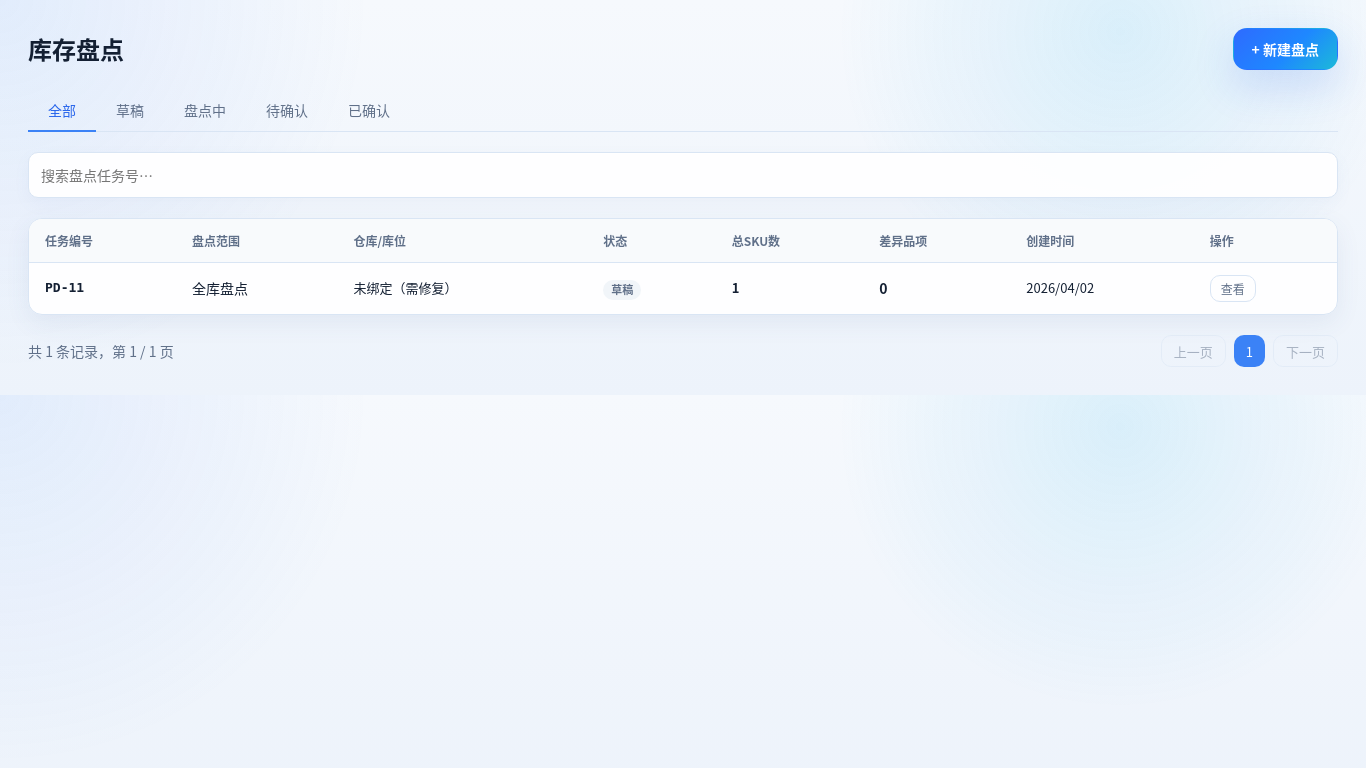
StocktakingPage › 保存实盘数量应触发更新并显示成功提示
The width and height of the screenshot is (1366, 768).
Click the button with aria-label "查看盘点明细".
click(1233, 289)  # box [1210, 275, 1256, 302]
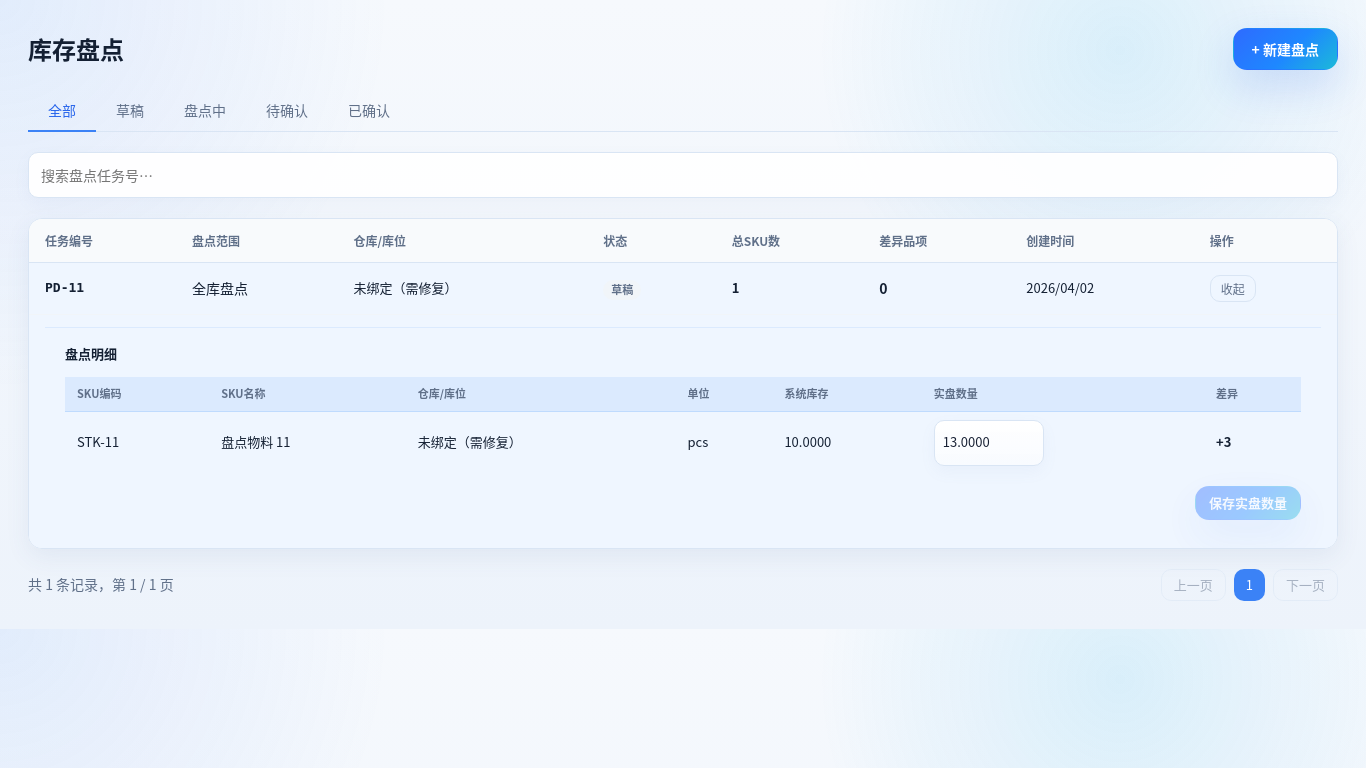
Replace the text in the number field showing "13.0000" with "15" at (989, 443), box [934, 420, 1044, 466]
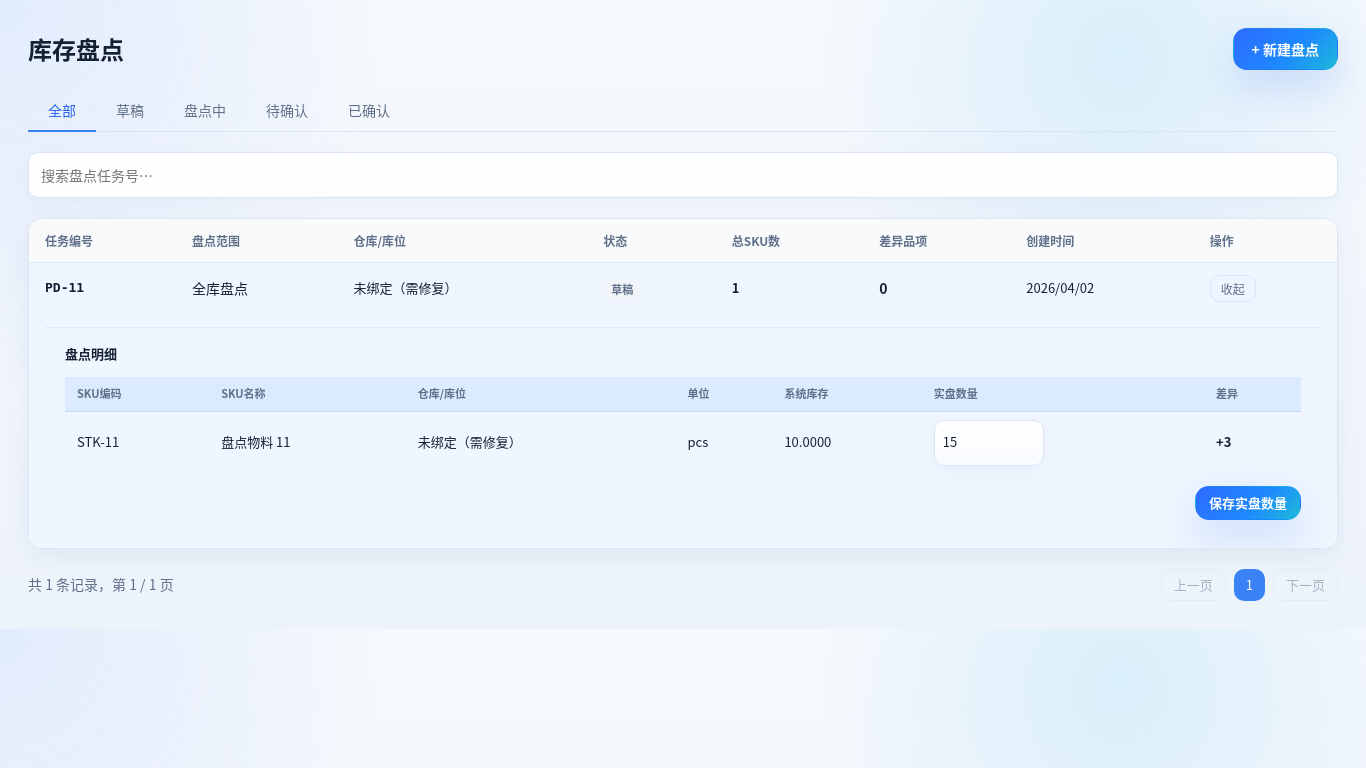
Click the button "保存实盘数量".
click(1248, 503)  # box [1195, 486, 1301, 520]
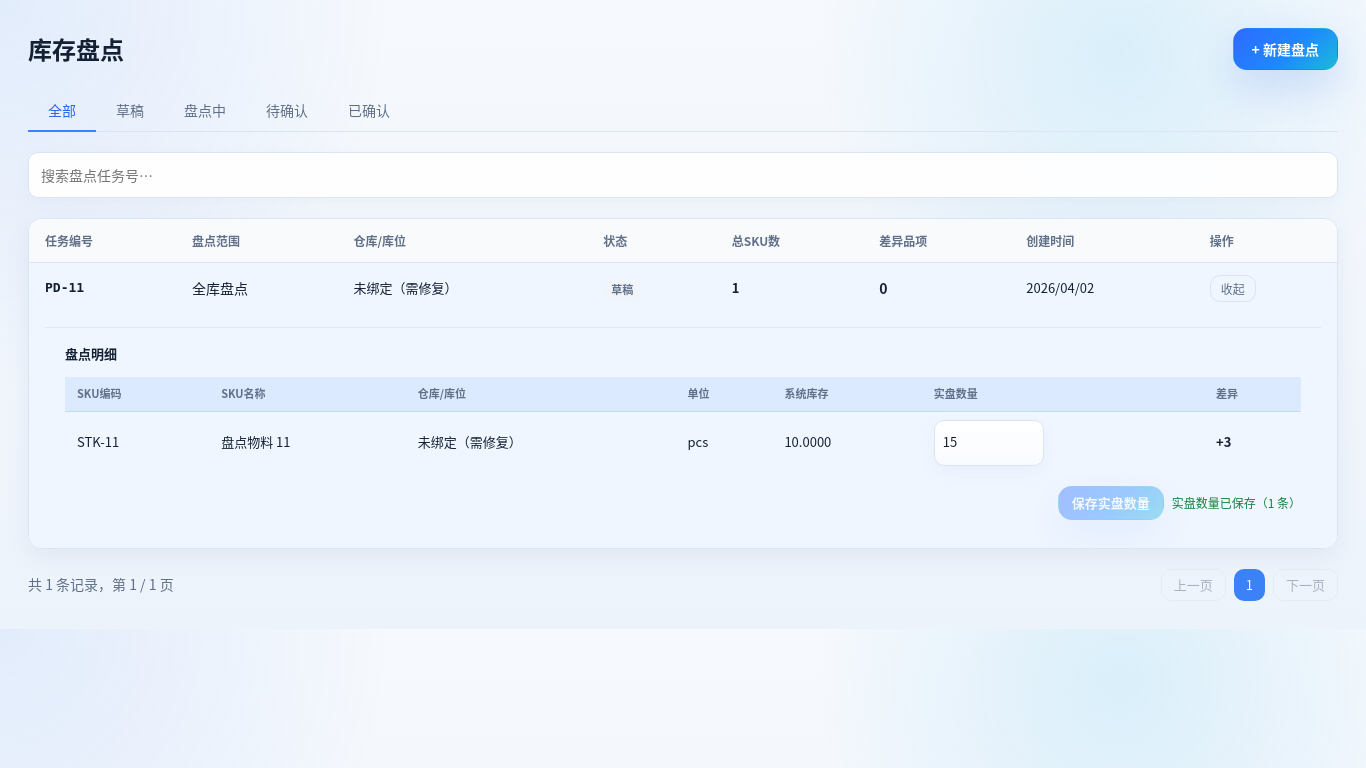
Result: the text "实盘数量已保存（1 条）" is shown at [1172, 493, 1301, 512]
